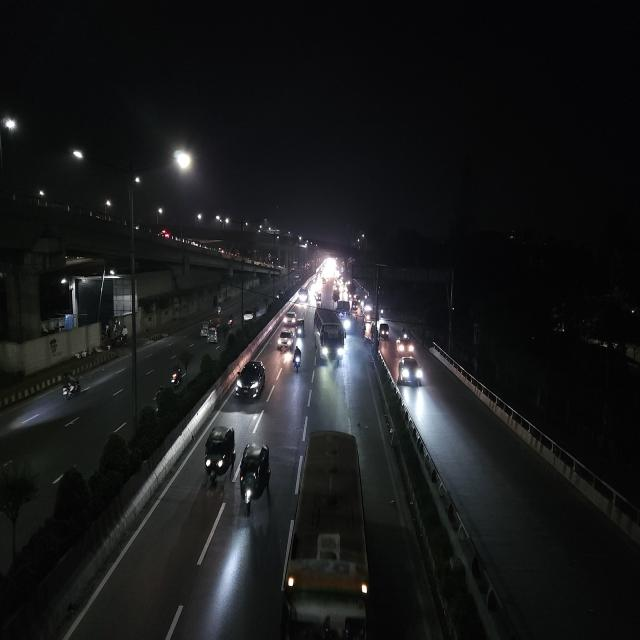bus: (283, 426, 371, 637), (314, 306, 346, 366), (337, 300, 351, 329)
car: (233, 356, 267, 405), (396, 353, 425, 390), (396, 334, 418, 358), (276, 328, 294, 351), (282, 308, 300, 327), (241, 306, 257, 324)
cng: (201, 421, 237, 495), (238, 439, 272, 516), (198, 318, 220, 344), (377, 320, 391, 340)
motorcycle: (56, 371, 84, 404), (166, 353, 188, 394), (292, 345, 303, 374), (227, 314, 236, 332)
pedestrian: (361, 318, 368, 338)
pickup_van: (297, 286, 309, 305)
